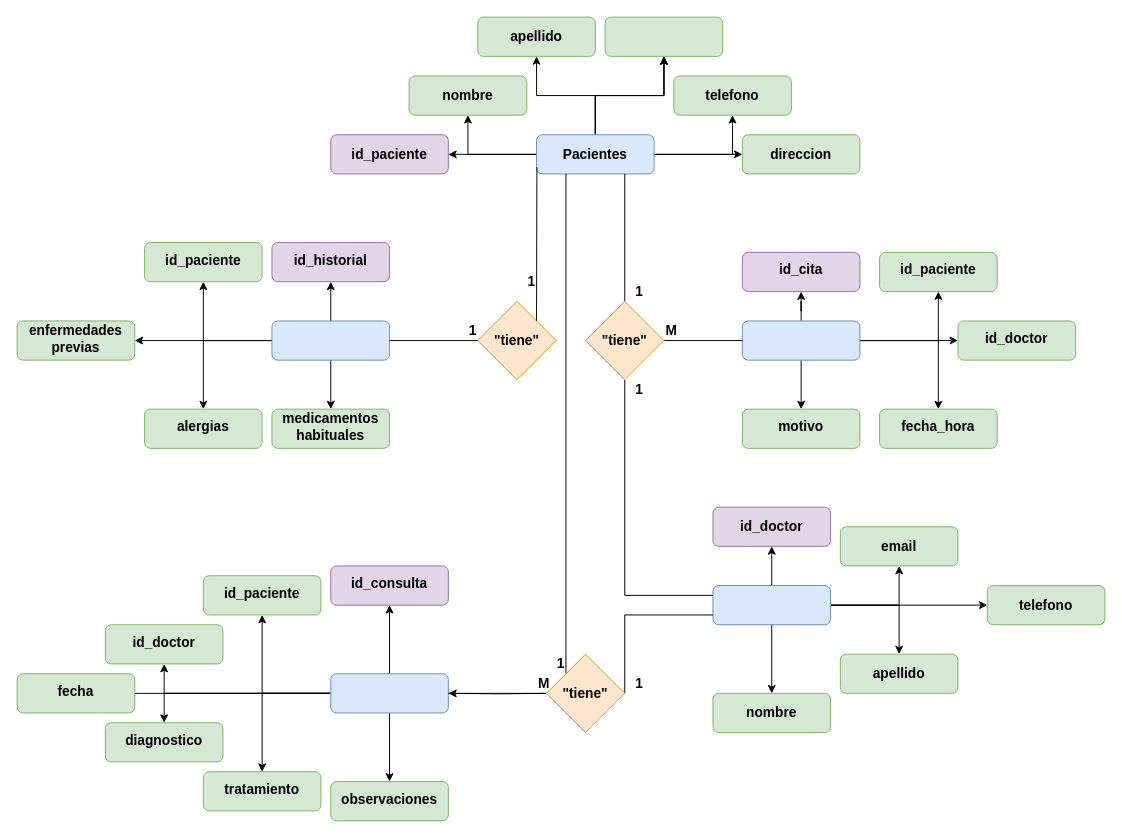
Image size: 1122x838. Some labels were removed from this diagram. The box of each missing label's shape, as (x1, y1, x2, y2) in pixels:
Citas: (741, 320, 860, 360)
consultas: (330, 673, 448, 713)
Doctores: (712, 585, 831, 625)
fecha nacimiento: (604, 16, 723, 56)
historial_clinico: (271, 320, 390, 360)
